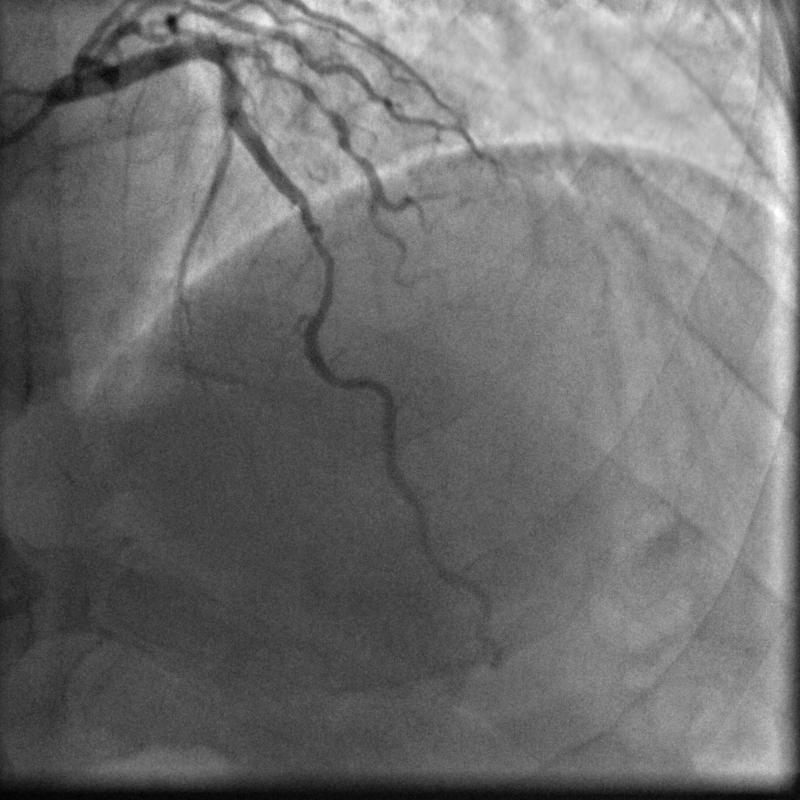Stenosis: (294, 203, 334, 311)
